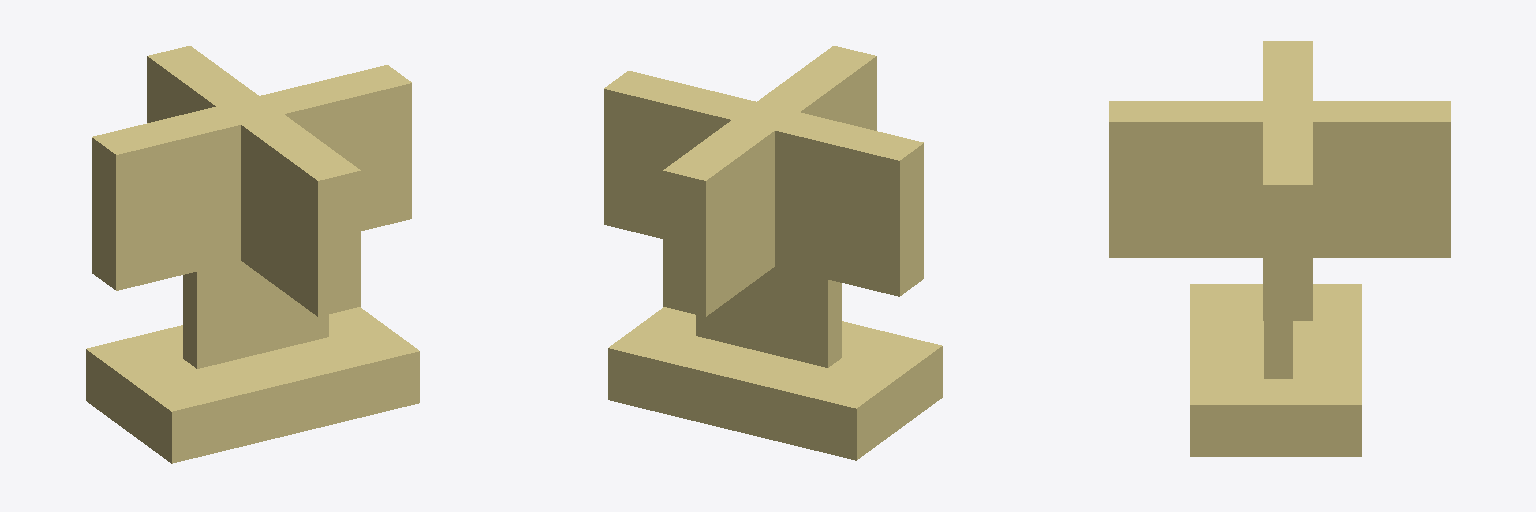
File: WeirdPlusThingy.obj
3 views of the same model, side by side, from view 1: azimuth 30°, elevation 25°; view 2: azimuth 150°, elevation 25°; view 3: azimuth 270°, elevation 25° (orthographic).
Parts seen in each view (by area): view 1: Box004; view 2: Box004; view 3: Box004.
Part boxes in pixels (bbox=[...]): Box004: bbox=[86, 46, 419, 463]; Box004: bbox=[604, 46, 942, 460]; Box004: bbox=[1109, 41, 1450, 456].
Size of the model in its own units: 59.53 by 55.03 by 59.53.